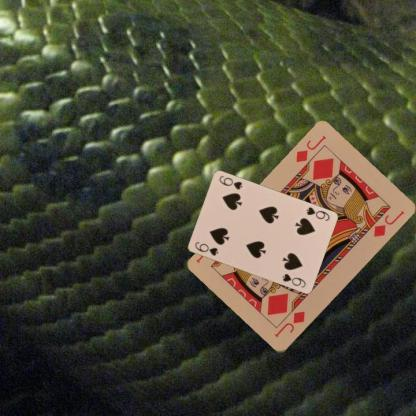6s: (303, 204, 330, 223), (192, 239, 219, 257)
Jd: (293, 134, 328, 164), (272, 309, 306, 339)
